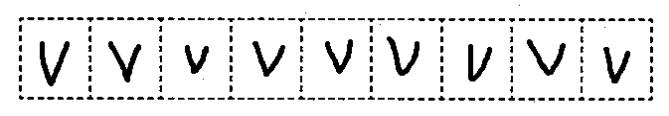V: (380, 30, 426, 81), (520, 34, 571, 79), (33, 35, 74, 90), (102, 36, 145, 86), (247, 37, 292, 82), (459, 39, 498, 86), (597, 41, 633, 90), (320, 34, 359, 78), (179, 38, 215, 80)
